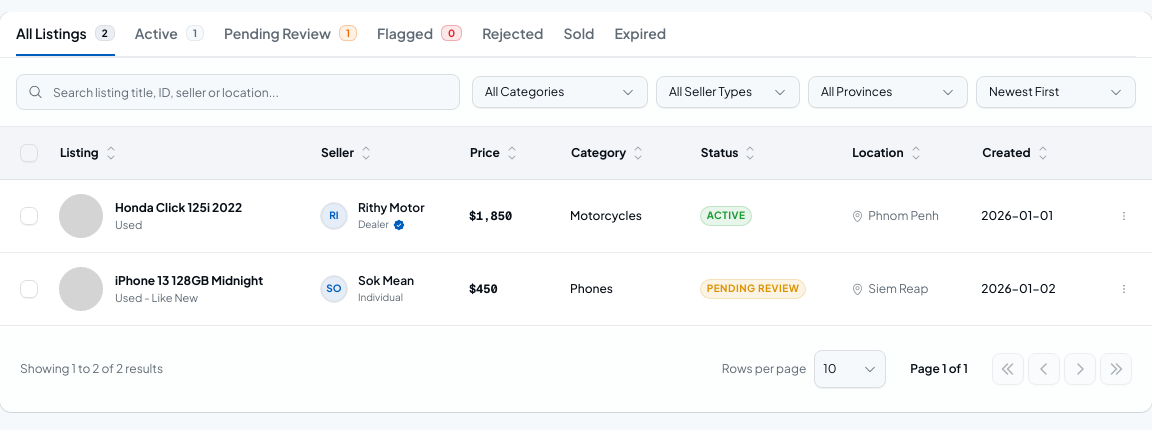
it: <ListingTable /> › filters listings by search input
The width and height of the screenshot is (1152, 430).
Type "Honda" into the field with placeholder "Search listing title, ID, seller or location...". click: (238, 92)
box: [16,74,460,110]
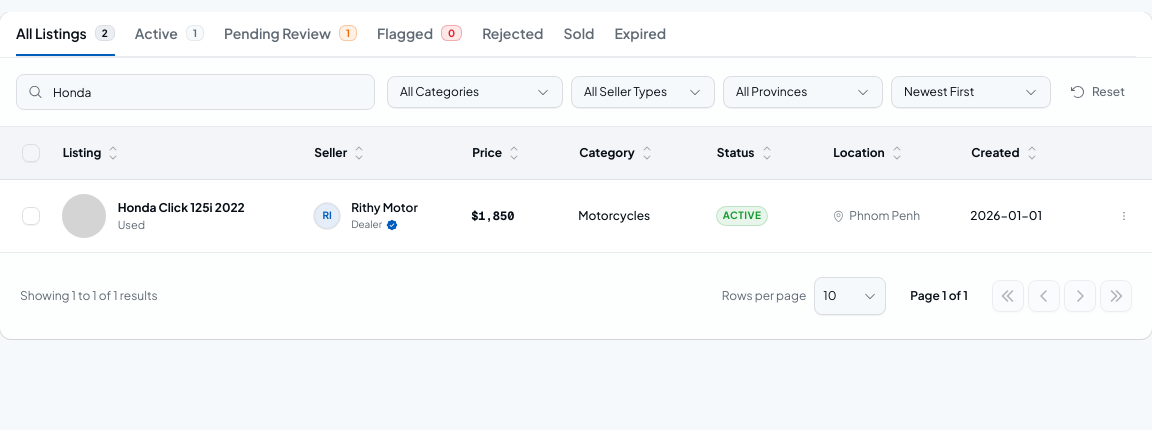
Check: the link "Honda Click 125i 2022" is shown, box [118,200,245,215]
Check: no links "iPhone 13 128GB Midnight" are shown
